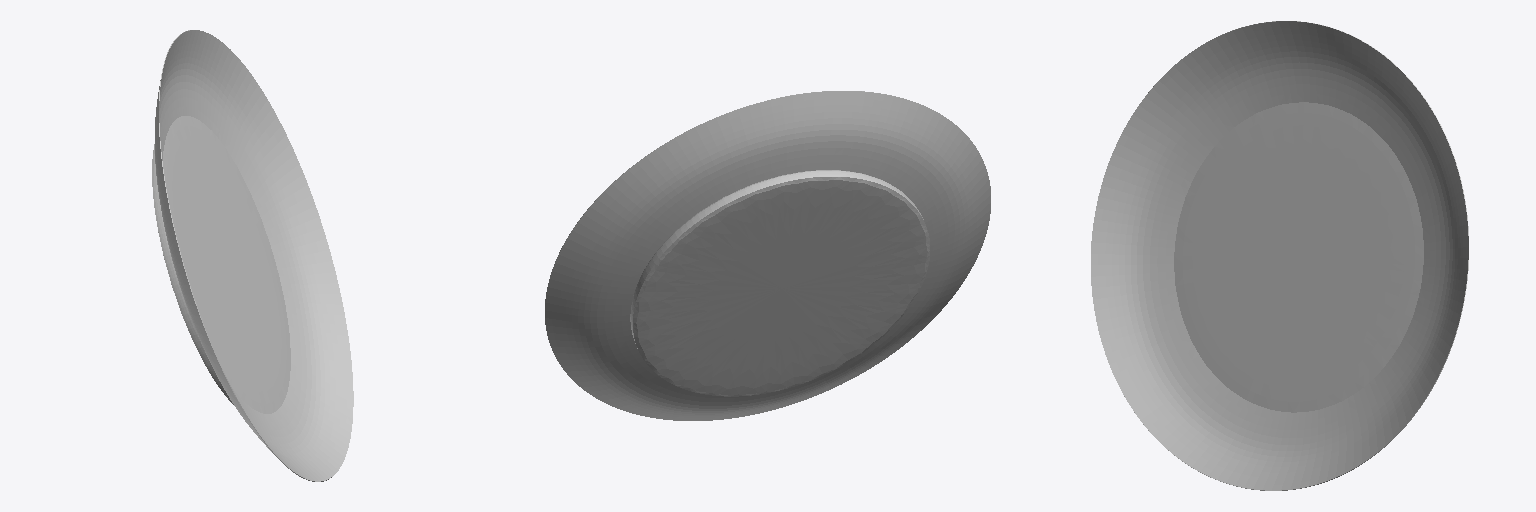
Rendered from tabak.obj.
3 renders of one model, left to right at view 1: azimuth 30°, elevation 25°; view 2: azimuth 150°, elevation 25°; view 3: azimuth 270°, elevation 25°, orthographic.
Parts seen in each view (by area): view 1: Plate; view 2: Plate; view 3: Plate.
Part boxes in pixels (bbox=[...]): Plate: bbox=[152, 30, 353, 481]; Plate: bbox=[545, 91, 990, 420]; Plate: bbox=[1091, 21, 1468, 490].
Size of the model in its own units: 6.68 by 8.74 by 7.6.